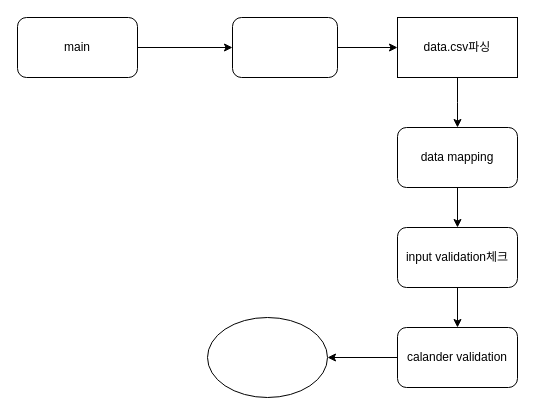
Image size: 535x415. Some labels were removed from this diagram. Here are the shapes that lost their labels. From the top down, the centre of each, then its label:
At point 285,47: "인자_validation".
At point 267,357: "input 정보와 mapping 하여 결과값 만들기".
